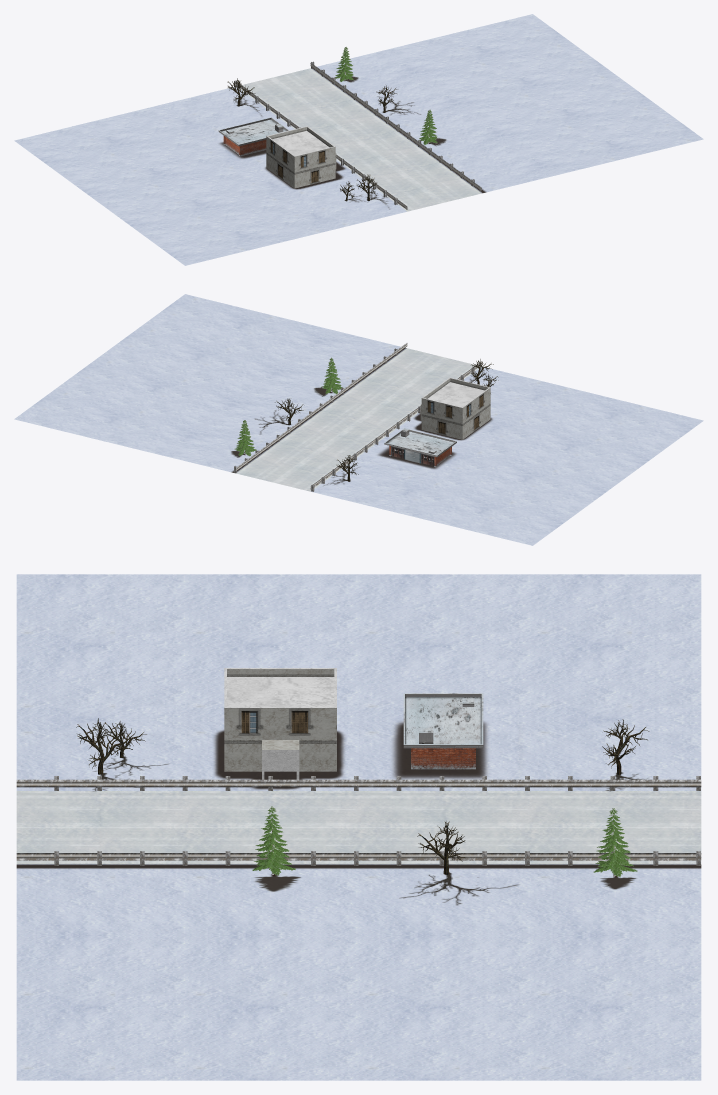
3 views of the same model, one above another, from view 1: azimuth 30°, elevation 25°; view 2: azimuth 150°, elevation 25°; view 3: azimuth 270°, elevation 25° (orthographic). The views are drawn at different scales.
Parts seen in each view (by area): view 1: scene5, road013, Box052, Box046, Box047, Box048; view 2: scene5, road013, Box052, Box046, Box048, Box047; view 3: scene5, road013, Box052, Box046, Box047, Box048.
Part boxes in pixels (bbox=[...]): scene5: bbox=[14, 14, 703, 265]; road013: bbox=[234, 61, 481, 211]; Box052: bbox=[266, 126, 336, 188]; Box046: bbox=[218, 117, 288, 156]; Box047: bbox=[227, 78, 397, 201]; Box048: bbox=[335, 47, 437, 144]; scene5: bbox=[14, 294, 703, 545]; road013: bbox=[234, 343, 481, 491]; Box052: bbox=[420, 377, 490, 439]; Box046: bbox=[384, 428, 456, 467]; Box048: bbox=[234, 357, 342, 456]; Box047: bbox=[275, 359, 498, 481]; scene5: bbox=[16, 574, 701, 1080]; road013: bbox=[16, 776, 701, 865]; Box052: bbox=[224, 668, 336, 779]; Box046: bbox=[403, 693, 483, 769]; Box047: bbox=[76, 718, 649, 874]; Box048: bbox=[252, 806, 637, 877].
Size of the model in its own units: 140 by 9.02 by 80.
